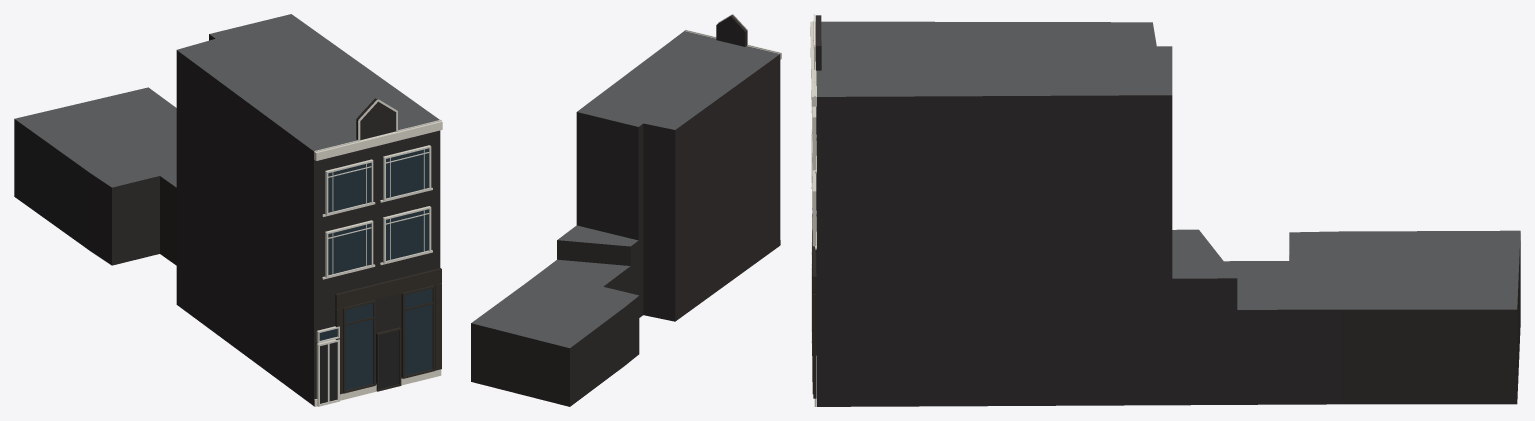
The picture shows the model from 3 angles, left to right: view 1: azimuth 30°, elevation 25°; view 2: azimuth 150°, elevation 25°; view 3: azimuth 270°, elevation 25°; orthographic projection. The views are drawn at different scales.
Parts seen in each view (by area): view 1: spec-0363100012173483; view 2: spec-0363100012173483; view 3: spec-0363100012173483.
Boxes of the visible parts, x1,y1,x2,y2 form: spec-0363100012173483: (14,14,442,406); spec-0363100012173483: (471,14,781,406); spec-0363100012173483: (810,14,1520,406).
Size of the model in its own units: 6.24 by 12.69 by 23.02.
